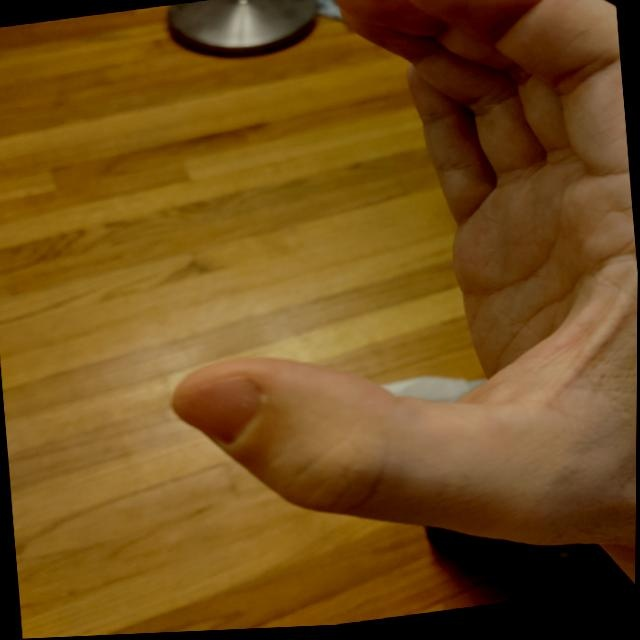C: (121, 0, 639, 613)
